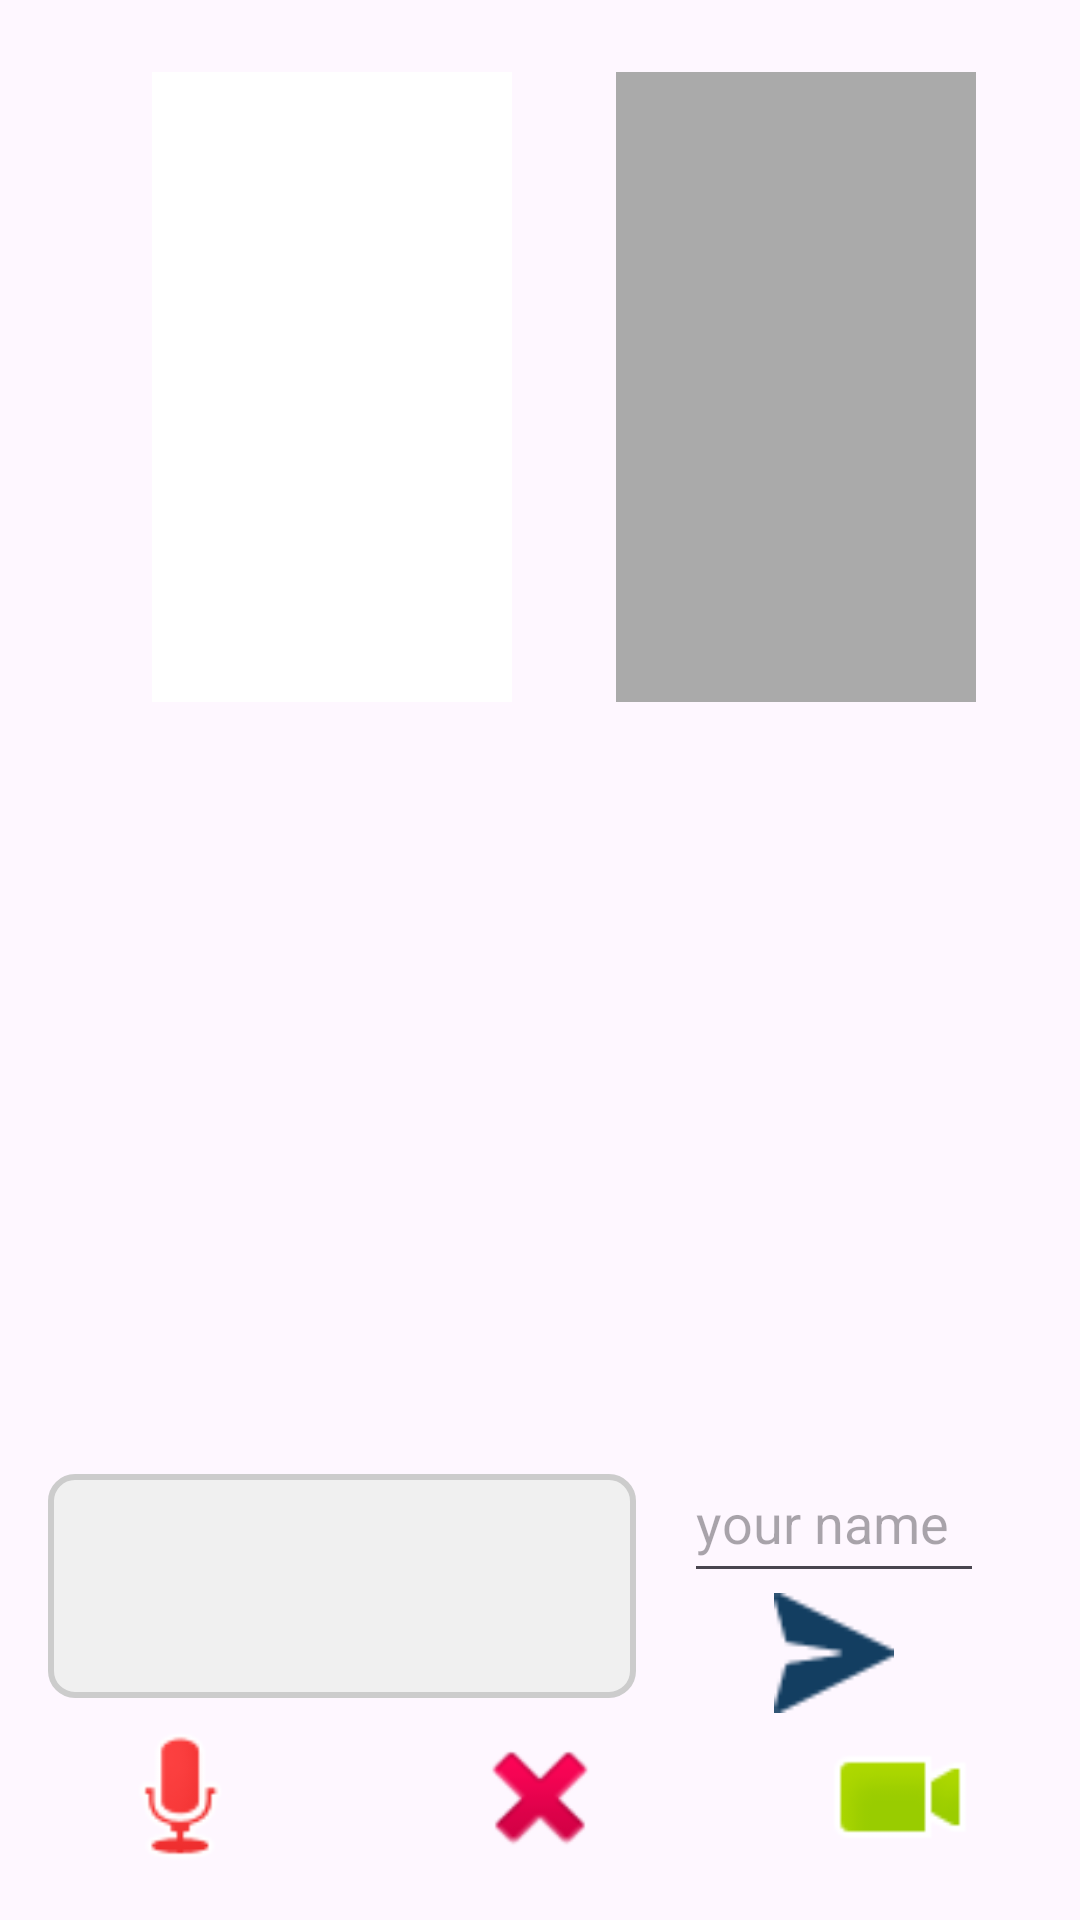

Icon click points for this 1080w x 1920h phone screenshot, format (x,y):
delete: (540,1798)
presence audio busy: (181,1795)
presence video online: (900,1797)
send: (834,1653)
